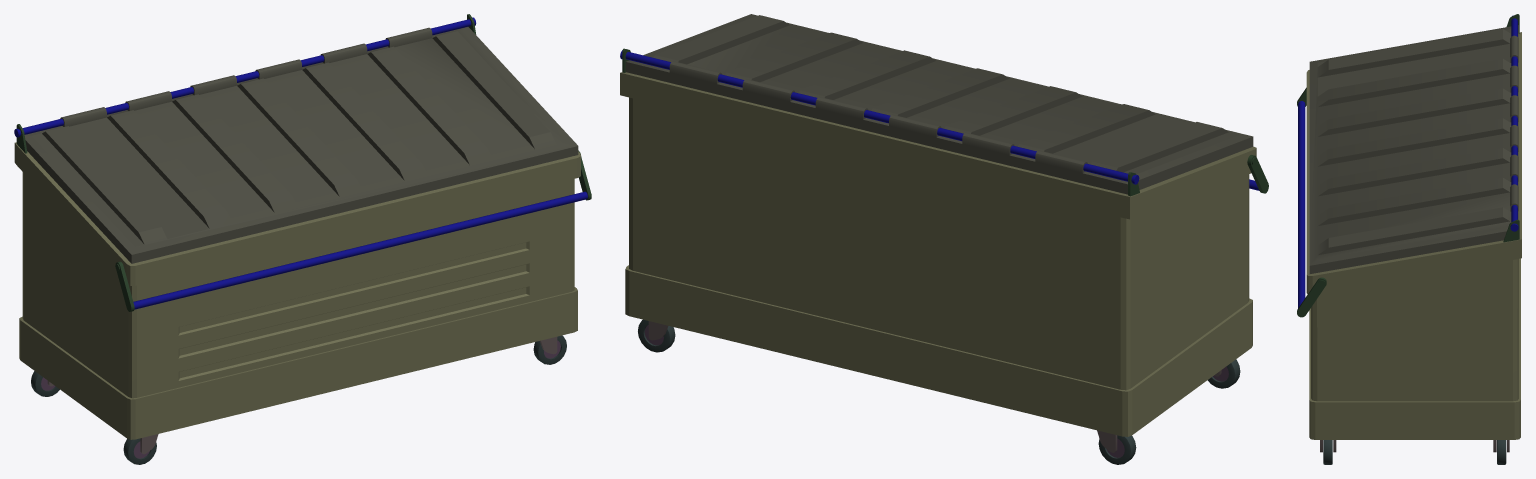
The model's file is Basurero.fbx.
3 views of the same model, side by side, from view 1: azimuth 30°, elevation 25°; view 2: azimuth 150°, elevation 25°; view 3: azimuth 270°, elevation 25° (orthographic). The views are drawn at different scales.
Parts seen in each view (by area): view 1: Box011, Box012, Box014, Cylinder005; view 2: Box011, Box012, Cylinder005, Cylinder007, Cylinder008; view 3: Box012, Box011, Box014, Cylinder005, Box013, Cylinder006, Cylinder008.
Boxes of the visible parts, x1,y1,x2,y2 form: Box011: (14,142,580,439); Box012: (24,27,578,263); Box014: (133,191,587,309); Cylinder005: (14,17,476,137); Box011: (620,72,1256,436); Box012: (625,14,1253,194); Cylinder005: (620,50,1139,184); Cylinder007: (1098,435,1136,464); Cylinder008: (638,319,675,352); Box012: (1309,25,1518,273); Box011: (1306,32,1521,439); Box014: (1298,101,1305,308); Cylinder005: (1510,15,1518,231); Box013: (1297,277,1326,317); Cylinder006: (1323,440,1332,464); Cylinder008: (1497,440,1506,464).
Bounding box in the file's own units: 142 × 78.89 × 63.74.
